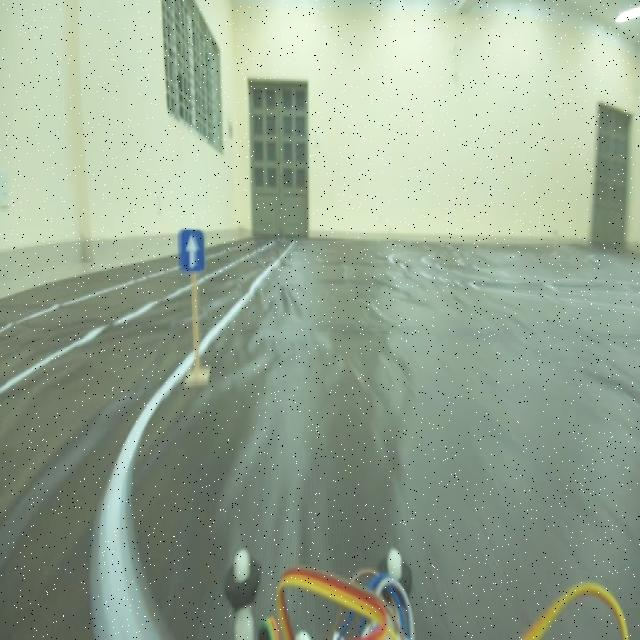onewayroad: (168, 220, 210, 277)
